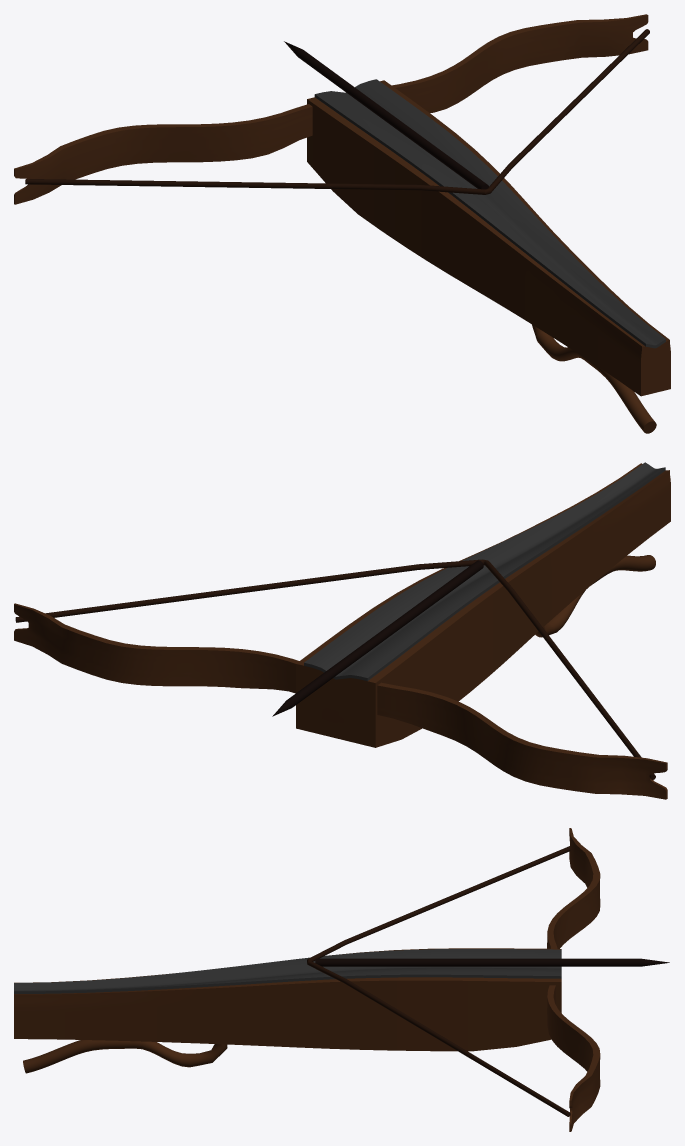
The model's file is Besta.fbx.
The picture shows the model from 3 angles, top to bottom: view 1: azimuth 30°, elevation 25°; view 2: azimuth 150°, elevation 25°; view 3: azimuth 270°, elevation 25°; orthographic projection. The views are drawn at different scales.
Visible parts, largest first — view 1: pCube4; view 2: pCube4; view 3: pCube4.
Part boxes in pixels (x1,y1,x2,y2): pCube4: (14, 14, 670, 433); pCube4: (14, 462, 670, 799); pCube4: (14, 828, 669, 1131).
Bounding box in the file's own units: 8.77 × 1.71 × 8.92.
